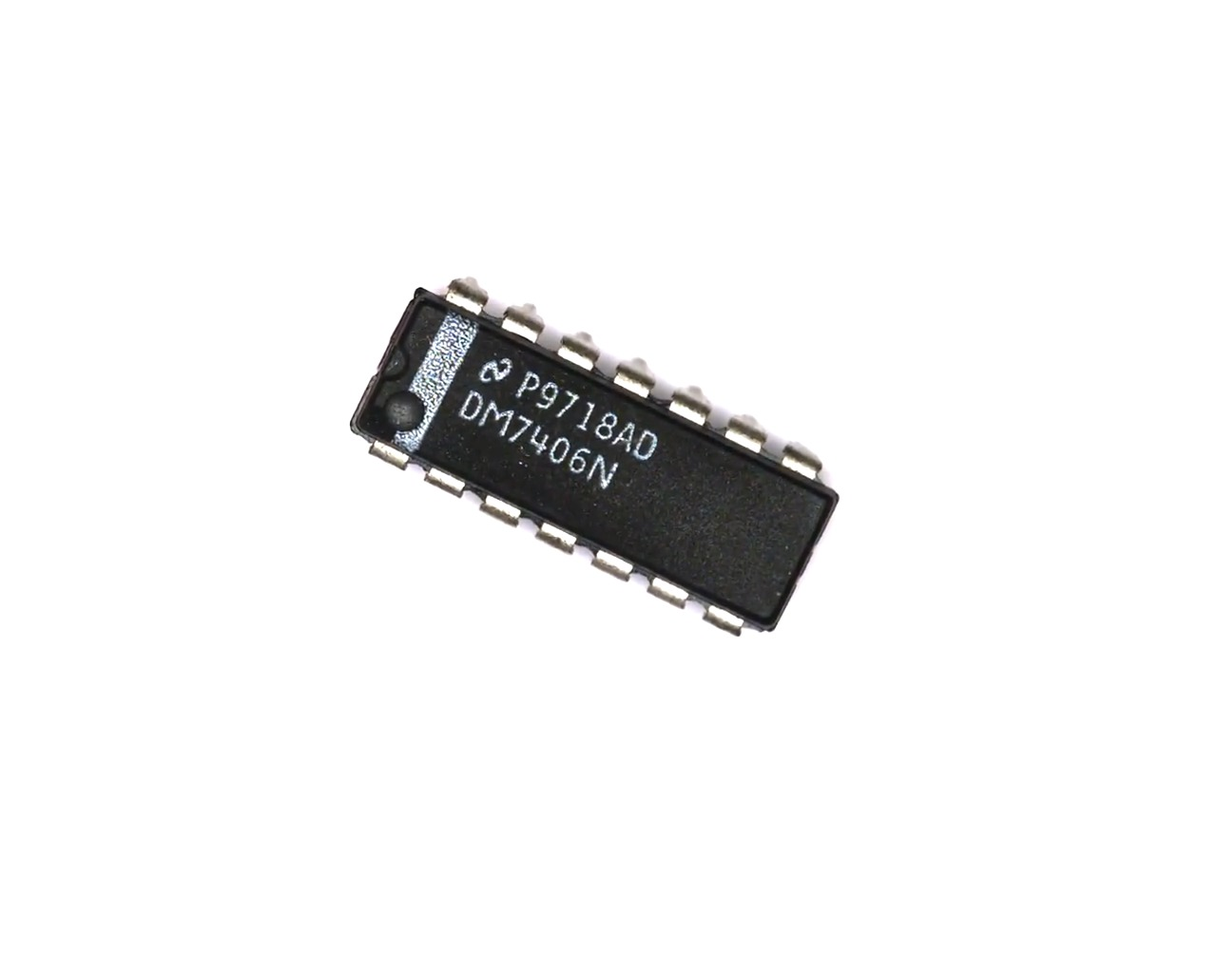IC: (329, 250, 861, 659)
notch: (376, 337, 416, 384)
